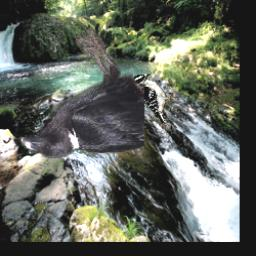Crow: (19, 27, 144, 158)
Woodpecker: (131, 72, 181, 124)
